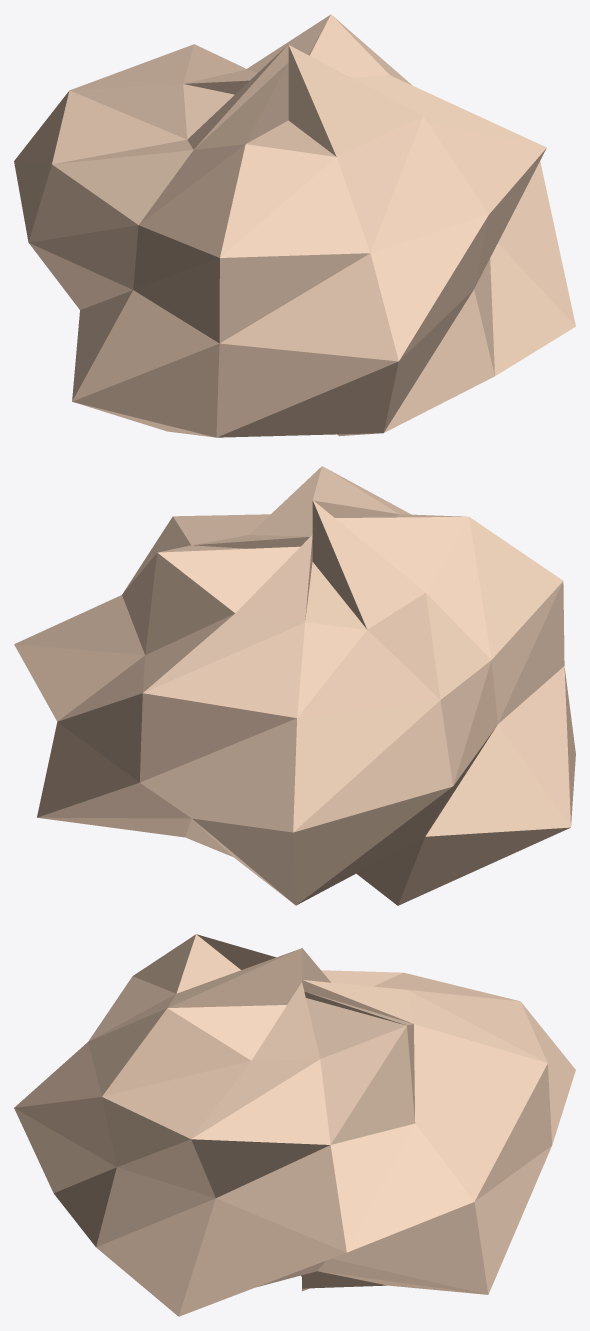
File: rock_063.obj
3 views of the same model, one above another, from view 1: azimuth 30°, elevation 25°; view 2: azimuth 150°, elevation 25°; view 3: azimuth 270°, elevation 25° (orthographic). The views are drawn at different scales.
Bounding box in the file's own units: 1.22 × 0.843 × 1.25.
